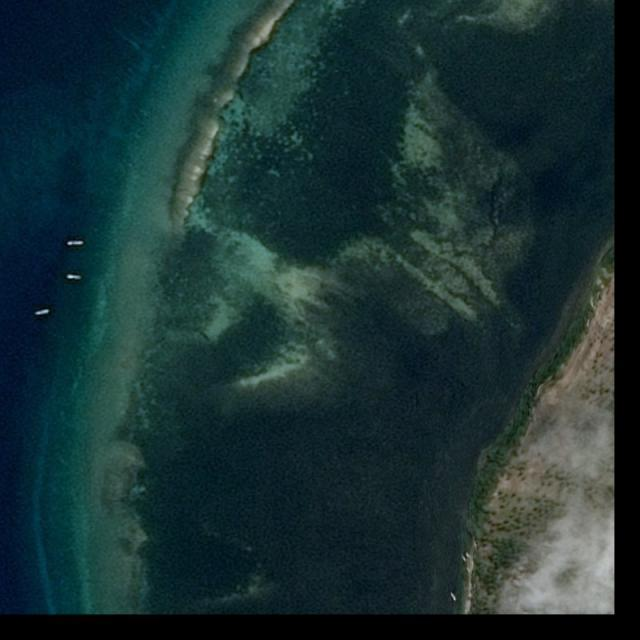ship: (66, 273, 82, 282), (35, 309, 50, 318), (67, 242, 85, 247)
